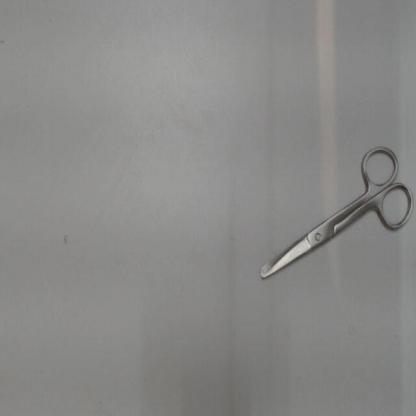Dressing Scissors: (246, 133, 415, 292)
